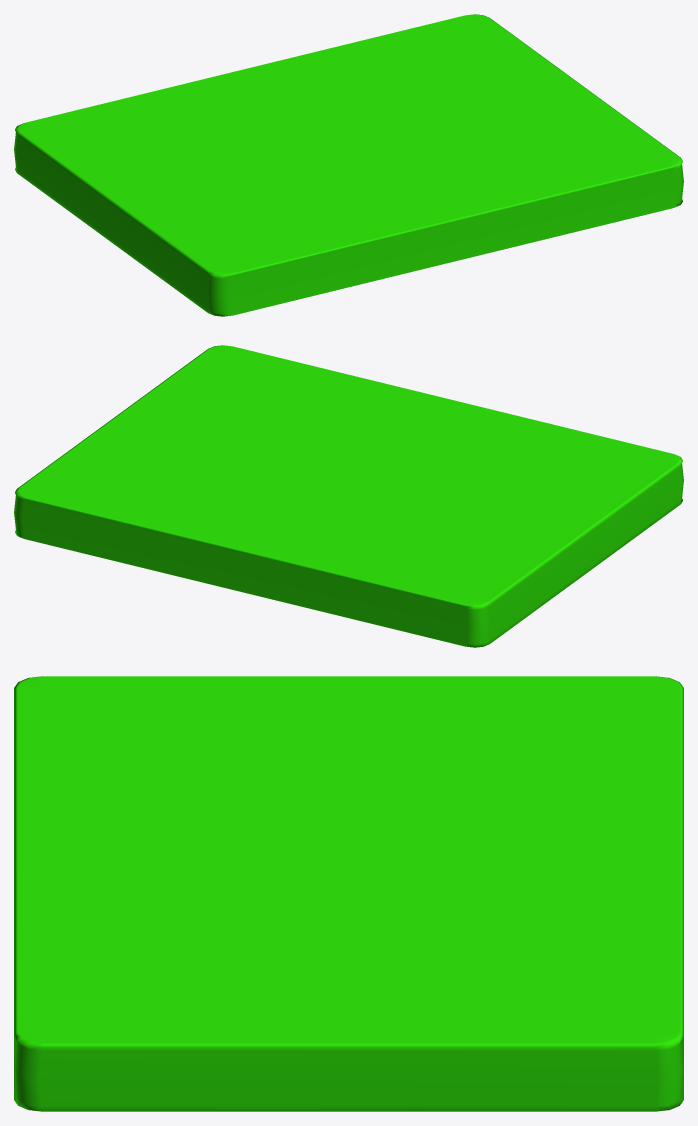
Rendered from Matress_01_Lod0.fbx.
The picture shows the model from 3 angles, top to bottom: view 1: azimuth 30°, elevation 25°; view 2: azimuth 150°, elevation 25°; view 3: azimuth 270°, elevation 25°; orthographic projection. The views are drawn at different scales.
Visible parts, largest first — view 1: Matress_01_Lod0; view 2: Matress_01_Lod0; view 3: Matress_01_Lod0.
Part boxes in pixels (x1,y1,x2,y2): Matress_01_Lod0: [14, 14, 683, 316]; Matress_01_Lod0: [14, 345, 683, 647]; Matress_01_Lod0: [14, 676, 683, 1111].
Size of the model in its own units: 204 by 17.64 by 155.
